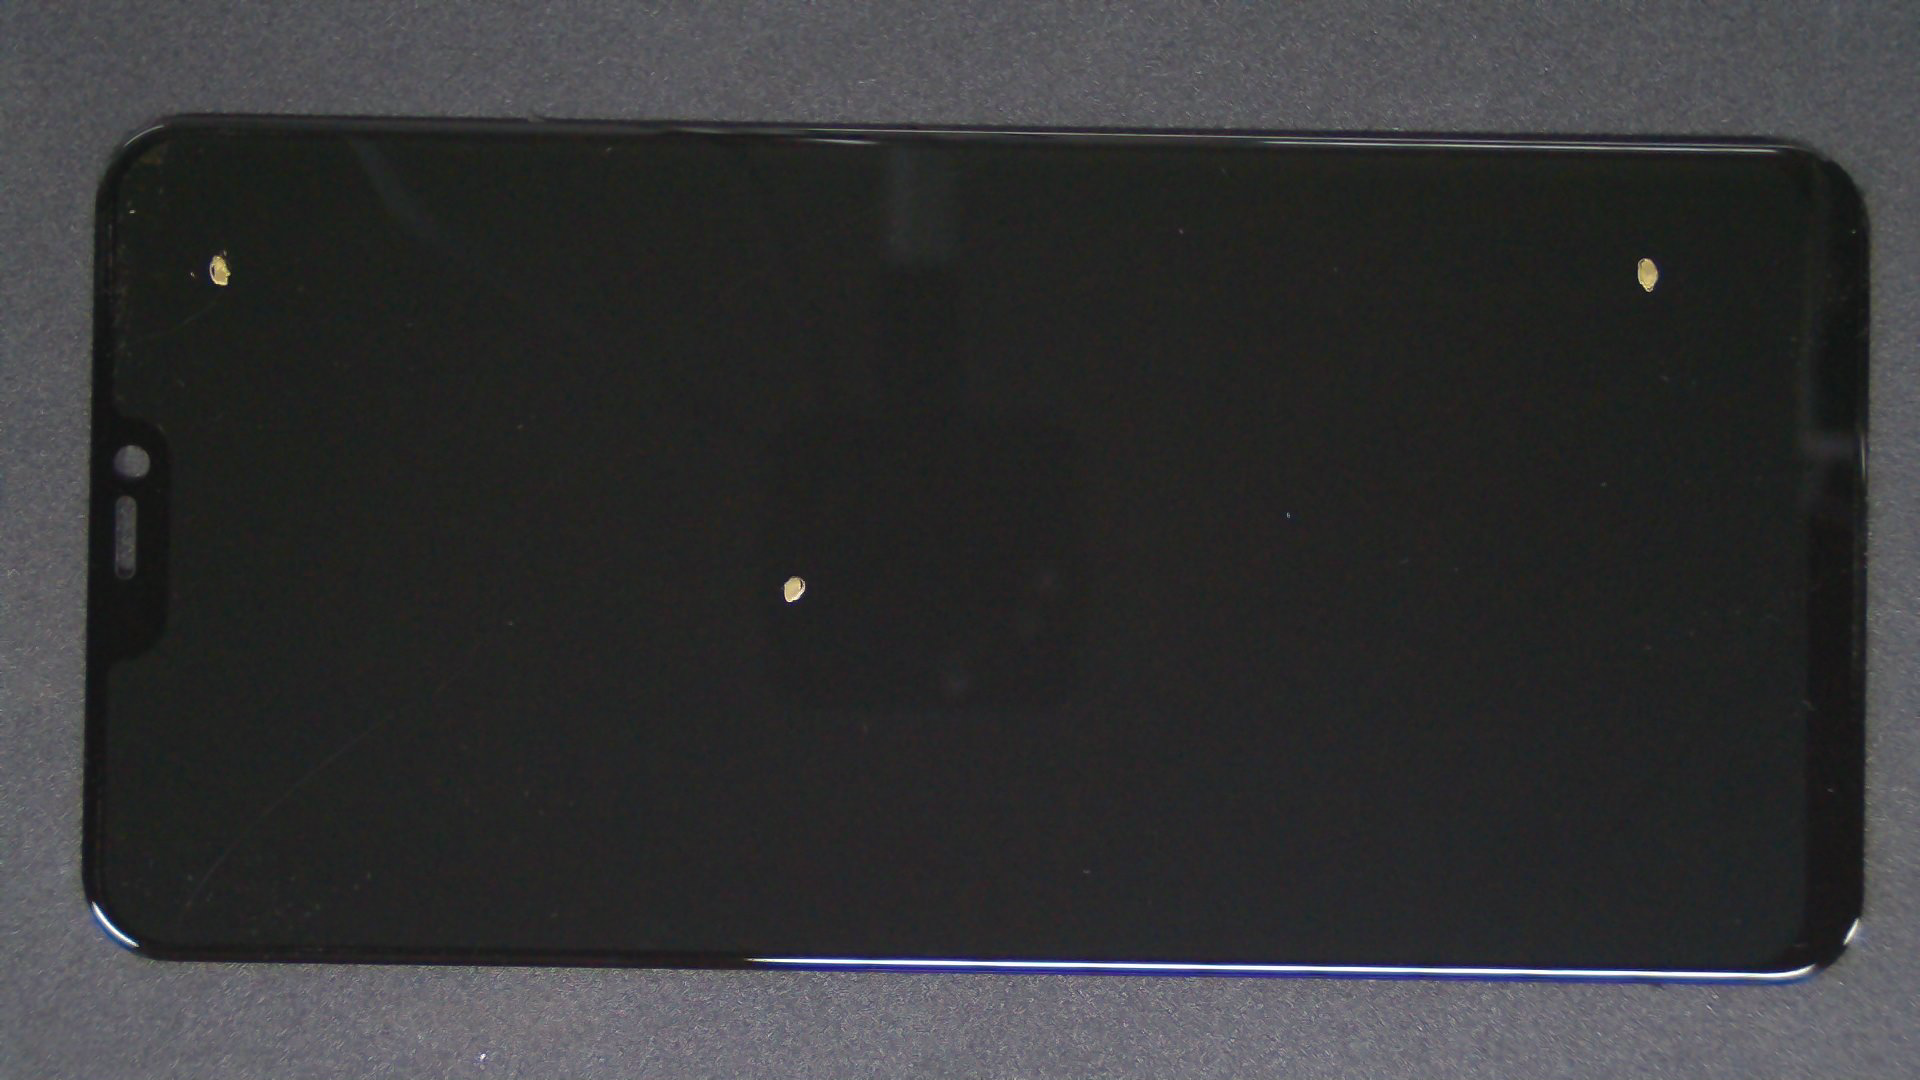defect: (1636, 256, 1660, 293), (208, 255, 231, 287), (783, 574, 807, 604)
